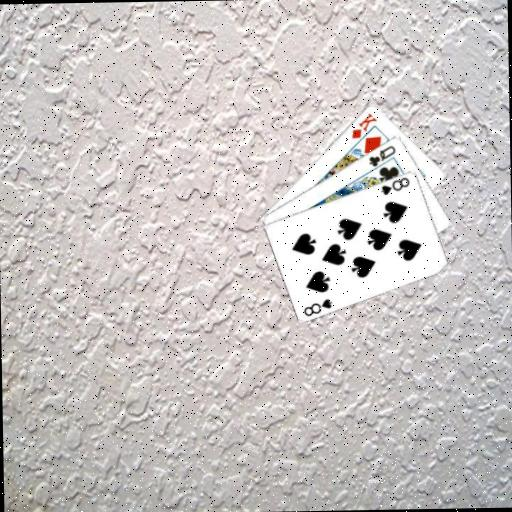8S: (378, 174, 412, 197), (300, 295, 334, 318)
KD: (348, 109, 379, 140)
QC: (366, 142, 398, 168)
